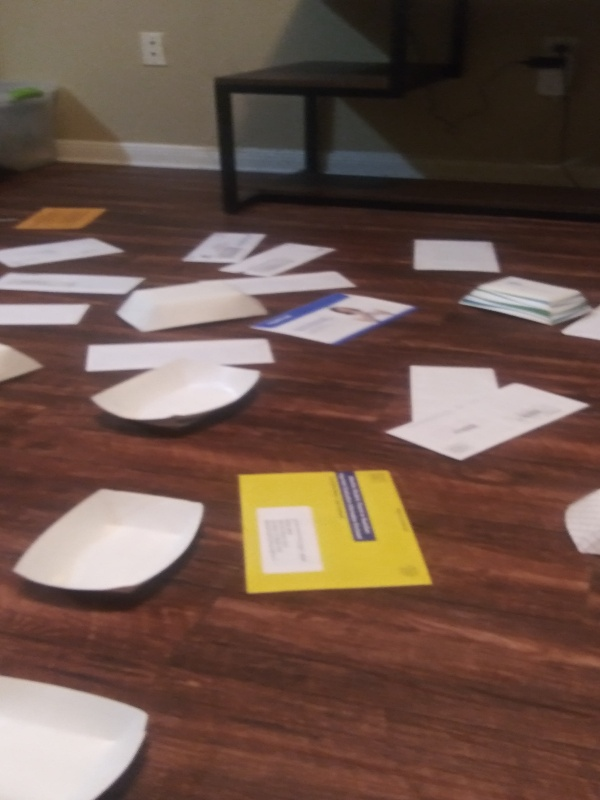plate: (9, 482, 214, 611), (1, 668, 161, 799), (88, 354, 270, 435), (111, 280, 276, 335), (448, 273, 597, 330), (561, 479, 600, 563), (1, 339, 50, 388)
